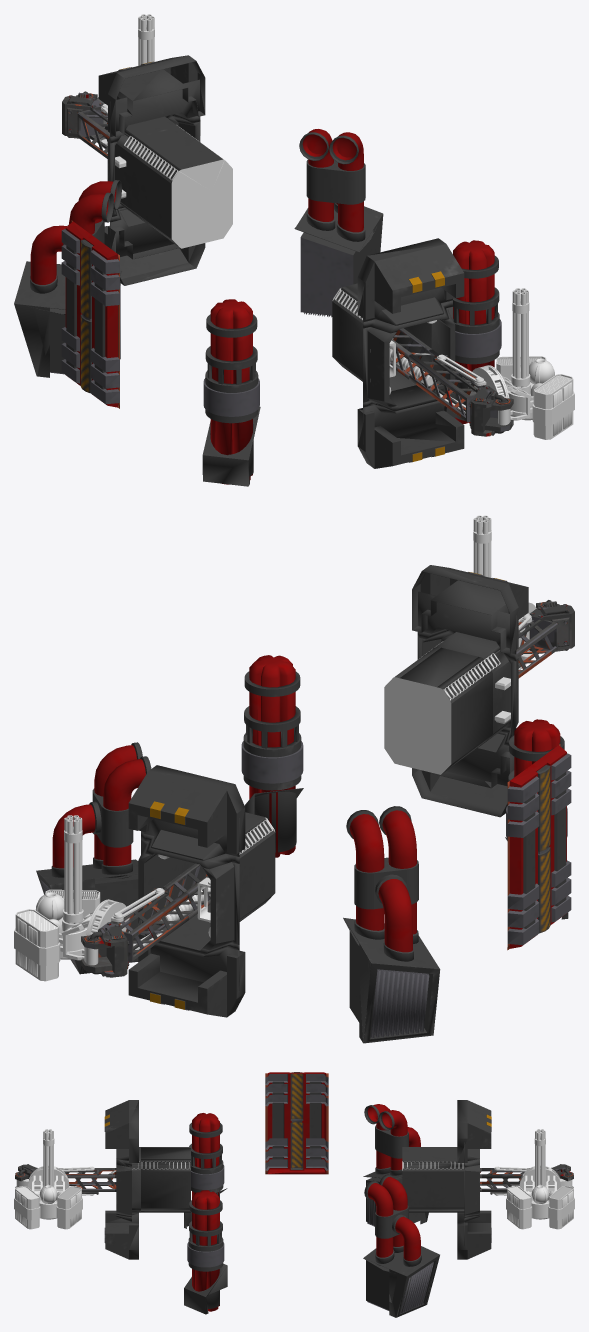
File: Engineering_Objects.fbx
3 renders of one model, top to bottom at view 1: azimuth 30°, elevation 25°; view 2: azimuth 150°, elevation 25°; view 3: azimuth 270°, elevation 25°, orthographic. The views are drawn at different scales.
Visible parts, largest first — view 1: PDC_Nest_Btm.002, PDC_Nest_Top.003, Tank1, Sealed_Hatch, PDC_Nest_Top, PDC_Nest_Btm, Piping2, PDC_Nest_Top.001, Tank2, Filter1, PDC_Main_Body.004, PDC_Nest_Btm.001 (+7 smaller); view 2: PDC_Nest_Top.003, PDC_Nest_Btm.002, Sealed_Hatch, Tank2, Piping1, PDC_Nest_Btm, Filter2, PDC_Nest_Top, PDC_Nest_Btm.001, Piping2, PDC_Main_Body.005, PDC_Nest_Top.001 (+7 smaller); view 3: Sealed_Hatch, PDC_Nest_Btm.002, PDC_Nest_Top.003, Tank2, Filter1, Piping2, PDC_Main_Body.004, PDC_Main_Body.005, Tank1, Piping1, PDC_Nest_Btm, PDC_Nest_Top (+7 smaller).
Part boxes in pixels (x1=…): PDC_Nest_Btm.002: x1=107, y1=114, x2=232, y2=248; PDC_Nest_Top.003: x1=332, y1=283, x2=455, y2=411; Tank1: x1=202, y1=299, x2=260, y2=486; Sealed_Hatch: x1=61, y1=220, x2=119, y2=408; PDC_Nest_Top: x1=357, y1=238, x2=464, y2=325; PDC_Nest_Btm: x1=98, y1=55, x2=205, y2=136; Piping2: x1=299, y1=129, x2=365, y2=241; PDC_Nest_Top.001: x1=357, y1=392, x2=464, y2=468; Tank2: x1=453, y1=240, x2=501, y2=424; Filter1: x1=294, y1=206, x2=383, y2=317; PDC_Main_Body.004: x1=484, y1=356, x2=574, y2=439; PDC_Nest_Btm.001: x1=104, y1=207, x2=205, y2=285; PDC_Nest_Top.003: x1=384, y1=629, x2=518, y2=774; PDC_Nest_Btm.002: x1=138, y1=812, x2=275, y2=954; Sealed_Hatch: x1=507, y1=743, x2=571, y2=950; Tank2: x1=241, y1=655, x2=303, y2=857; Piping1: x1=346, y1=806, x2=418, y2=961; PDC_Nest_Btm: x1=128, y1=765, x2=245, y2=860; Filter2: x1=343, y1=917, x2=440, y2=1043; PDC_Nest_Top: x1=412, y1=565, x2=528, y2=654; PDC_Nest_Btm.001: x1=128, y1=934, x2=245, y2=1017; Piping2: x1=51, y1=742, x2=151, y2=878; PDC_Main_Body.005: x1=14, y1=889, x2=112, y2=981; PDC_Nest_Top.001: x1=412, y1=731, x2=514, y2=817; Sealed_Hatch: x1=265, y1=1072, x2=328, y2=1174; PDC_Nest_Btm.002: x1=402, y1=1147, x2=481, y2=1221; PDC_Nest_Top.003: x1=115, y1=1147, x2=190, y2=1218; Tank2: x1=184, y1=1190, x2=227, y2=1314; Filter1: x1=363, y1=1246, x2=439, y2=1317; Piping2: x1=364, y1=1174, x2=421, y2=1266; PDC_Main_Body.004: x1=14, y1=1168, x2=82, y2=1229; PDC_Main_Body.005: x1=506, y1=1168, x2=574, y2=1229; Tank1: x1=184, y1=1113, x2=227, y2=1228; Piping1: x1=364, y1=1104, x2=420, y2=1177; PDC_Nest_Btm: x1=457, y1=1100, x2=491, y2=1165; PDC_Nest_Top: x1=104, y1=1100, x2=138, y2=1162.
Bounding box in the file's own units: 24.02 × 14.18 × 46.31.
